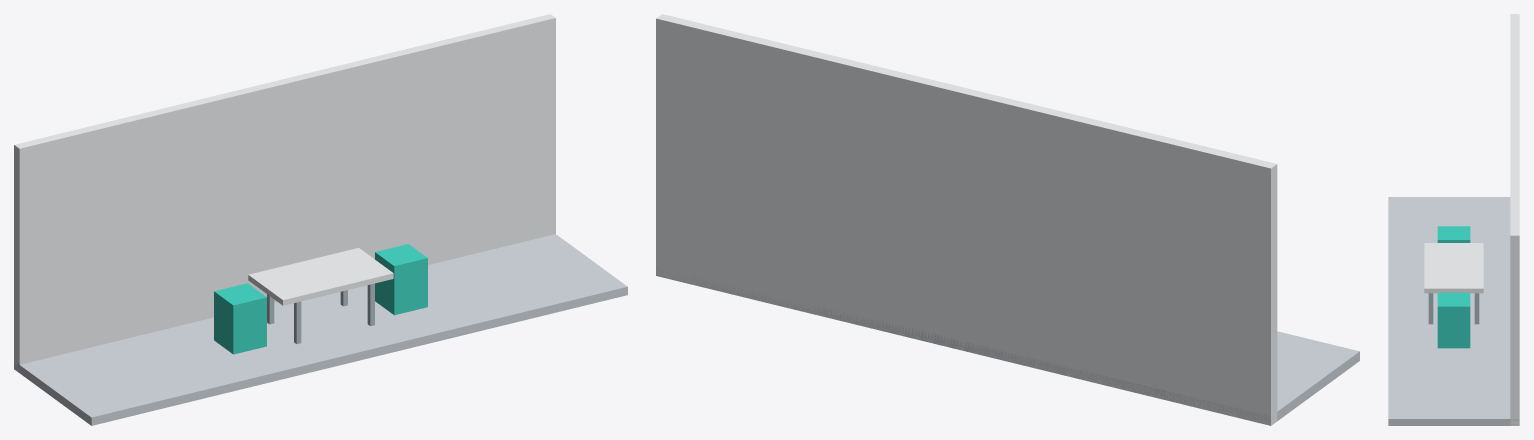
3 views of the same model, side by side, from view 1: azimuth 30°, elevation 25°; view 2: azimuth 150°, elevation 25°; view 3: azimuth 270°, elevation 25° (orthographic). The views are drawn at different scales.
Parts seen in each view (by area): view 1: Exhibition Booth Concept; view 2: Exhibition Booth Concept; view 3: Exhibition Booth Concept.
Part boxes in pixels (x1,y1,x2,y2): Exhibition Booth Concept: (14,14,627,425); Exhibition Booth Concept: (656,14,1359,425); Exhibition Booth Concept: (1388,14,1519,425).
Bounding box in the file's own units: 8 × 3.2 × 2.
